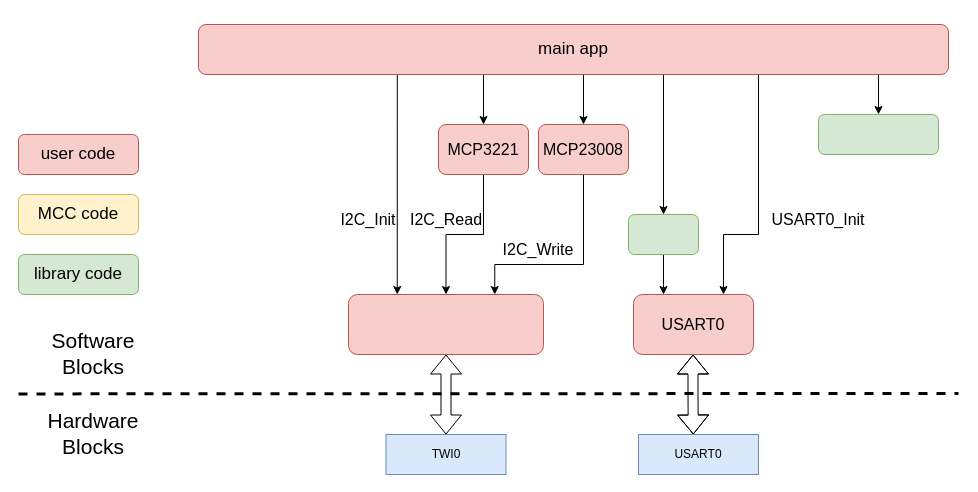
Image size: 978x492. Some labels were removed from this diagram. The shapes that lost their labels are listed below. From the top down, each one's box as (x1, y1, x2, y2) in pixels, then its label:
(818, 114, 938, 154): _delay_ms
(628, 214, 698, 254): printf
(348, 294, 544, 354): I2C
